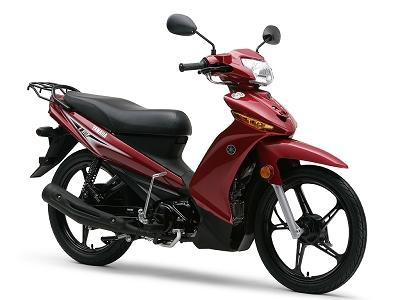motor: (35, 25, 372, 300)
